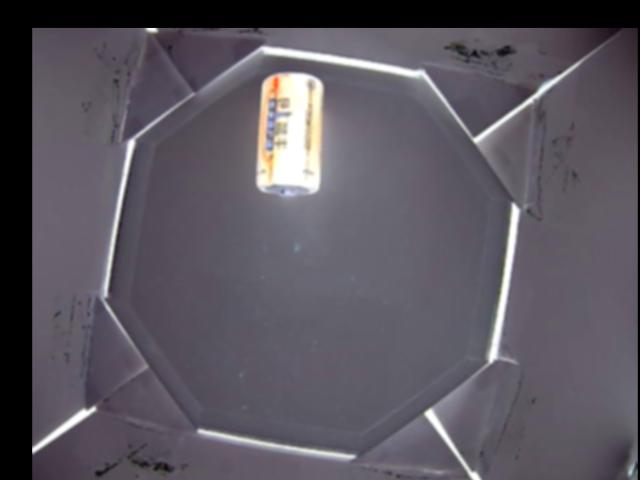Battery: (256, 72, 324, 197)
